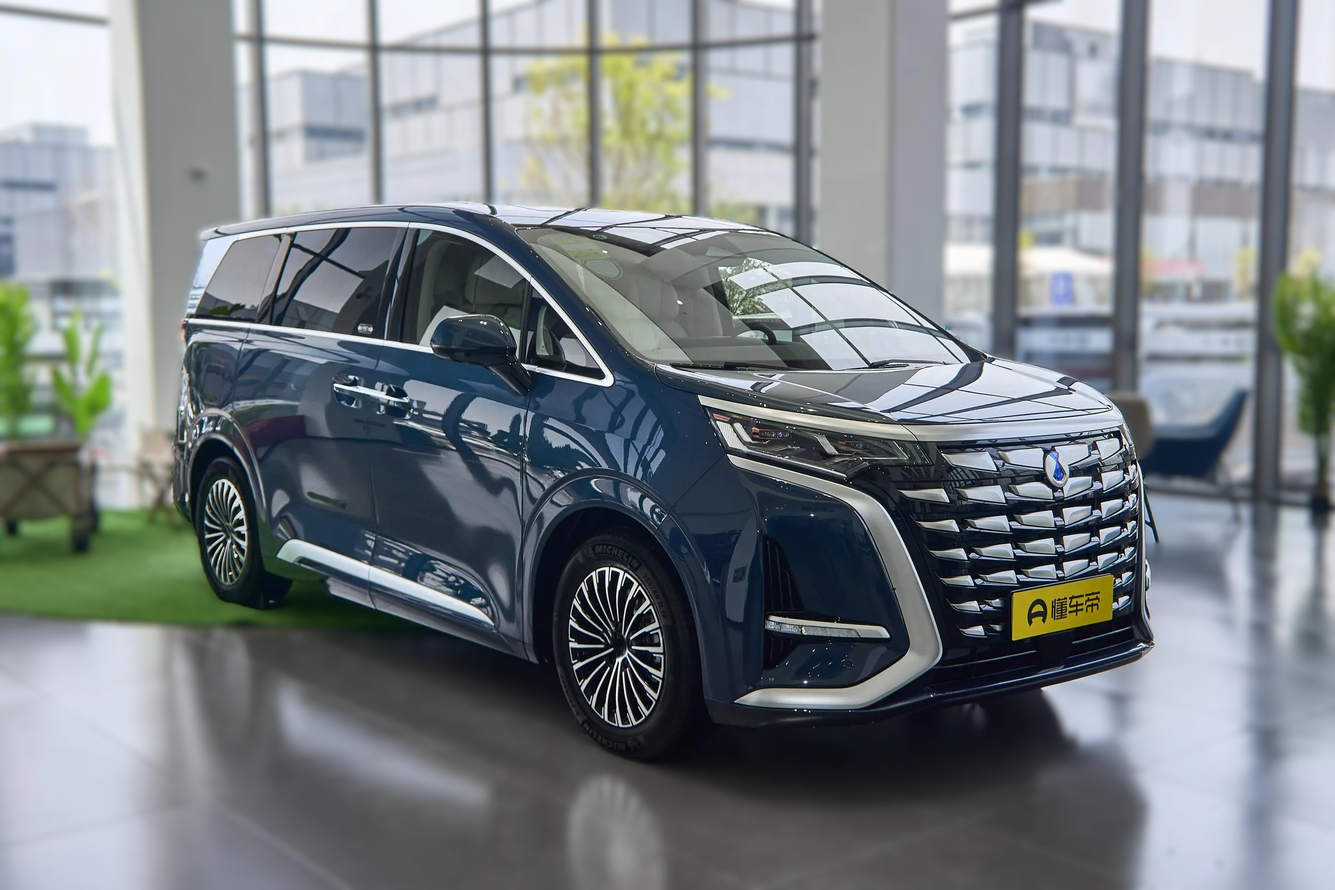DENZA: (1045, 452, 1069, 487)
